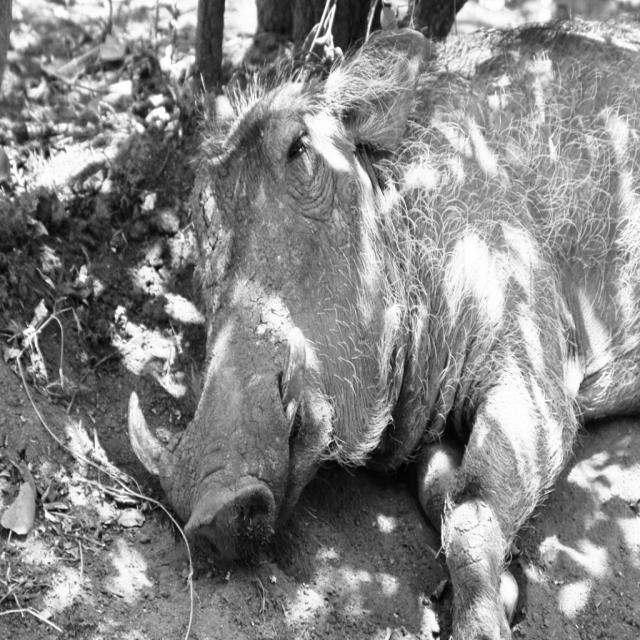Pig: (126, 15, 640, 640)
